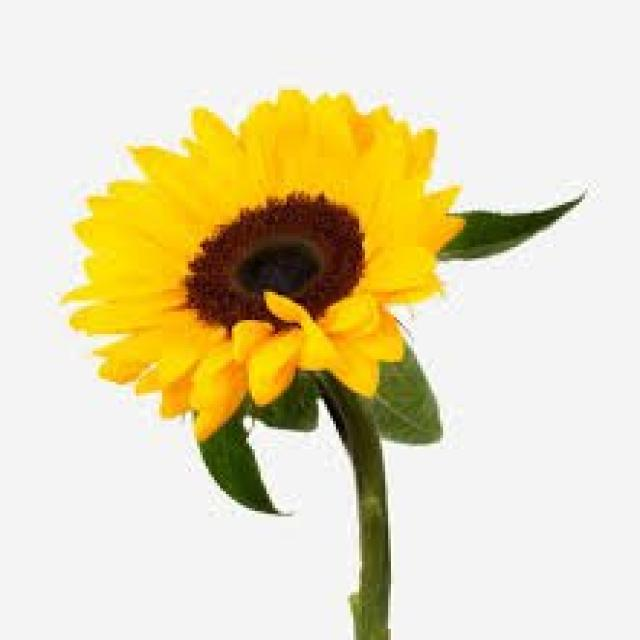sunflower: (52, 80, 469, 451)
